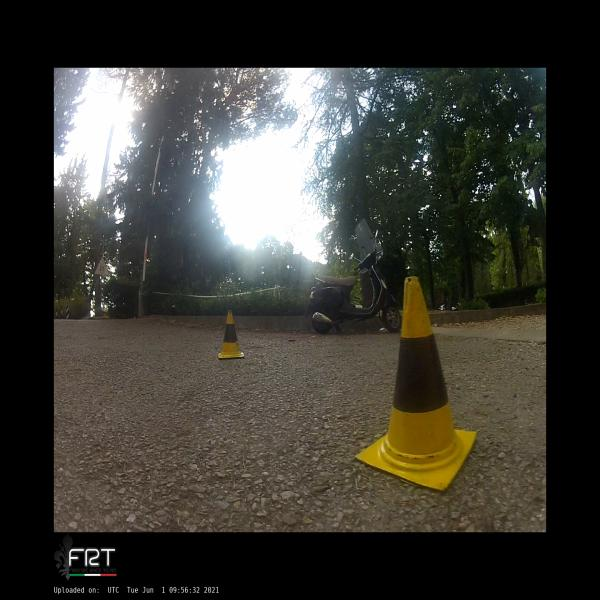yellow_cone: (355, 276, 477, 492), (218, 310, 245, 359)
